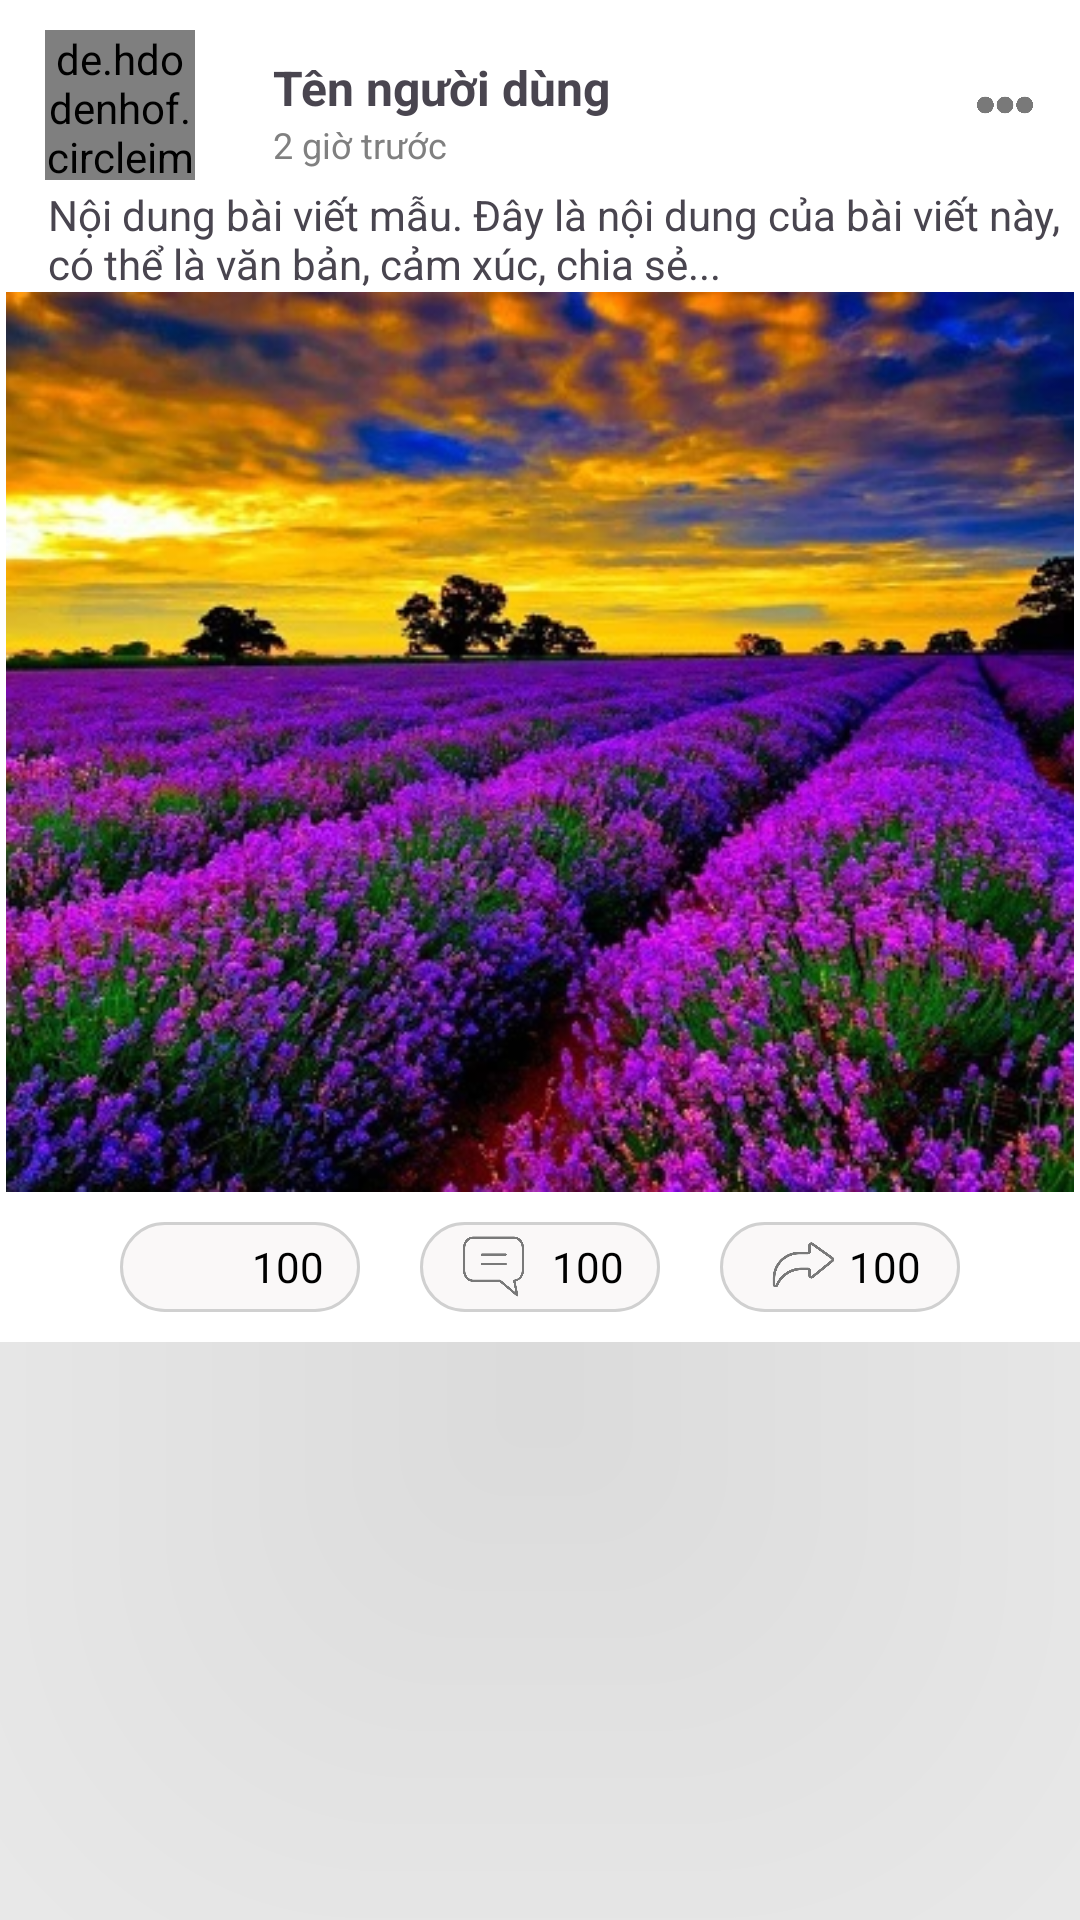

Icons on this 1080px x 1920px Android screen, each with its box as (left=x1, top=y1, right=x2, bottom=y2):
comment: (left=463, top=1236, right=524, bottom=1297)
menu: (left=977, top=97, right=1033, bottom=113)
share: (left=759, top=1222, right=849, bottom=1312)
